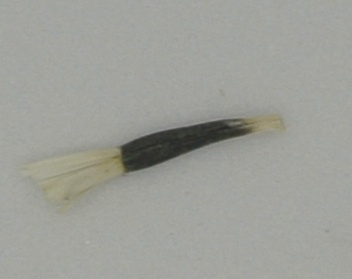เมล็ดดีติดกัน: (23, 109, 285, 214)
